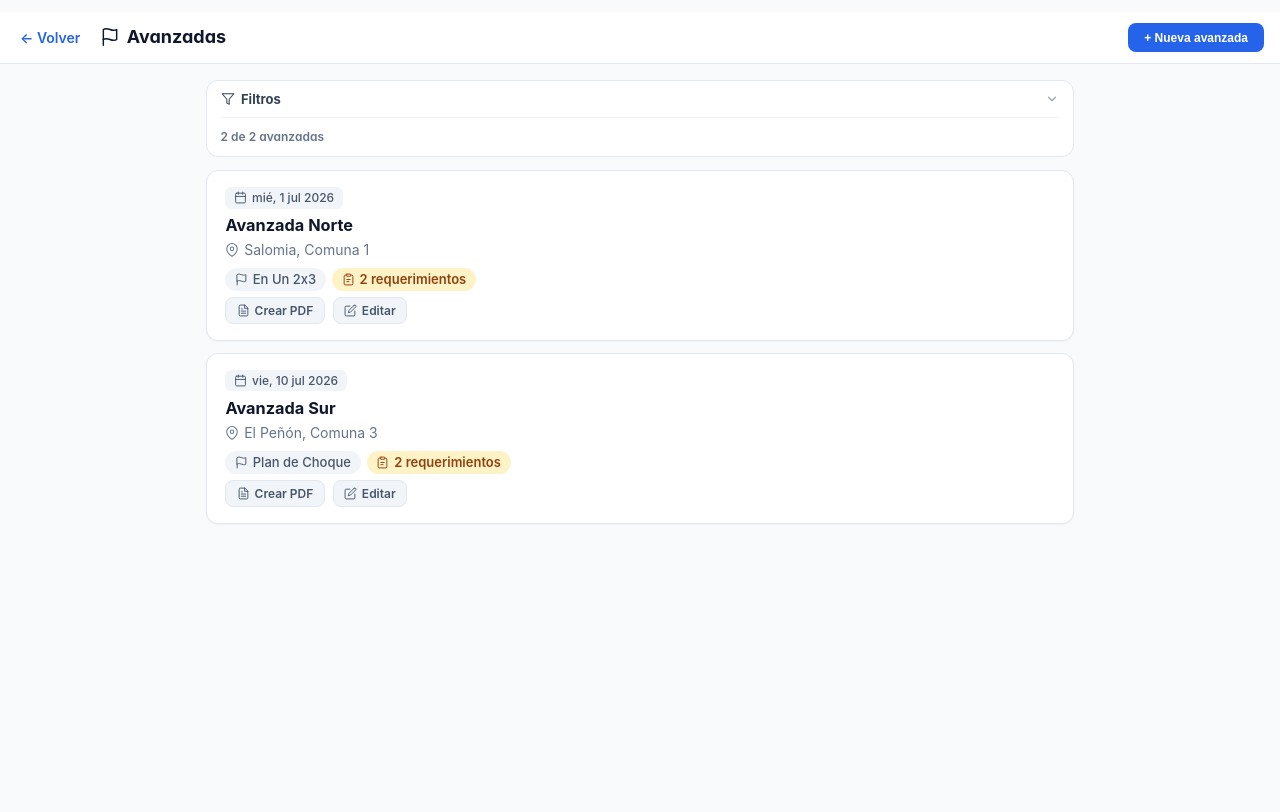
Test: ListaAvanzadas › filter bar › shows the no-results-from-filters empty state (distinct from the no-avanzadas-at-all state) when a filter matches nothing
Click the button "Filtros". click: (261,99)
box: left=221, top=91, right=1059, bottom=107
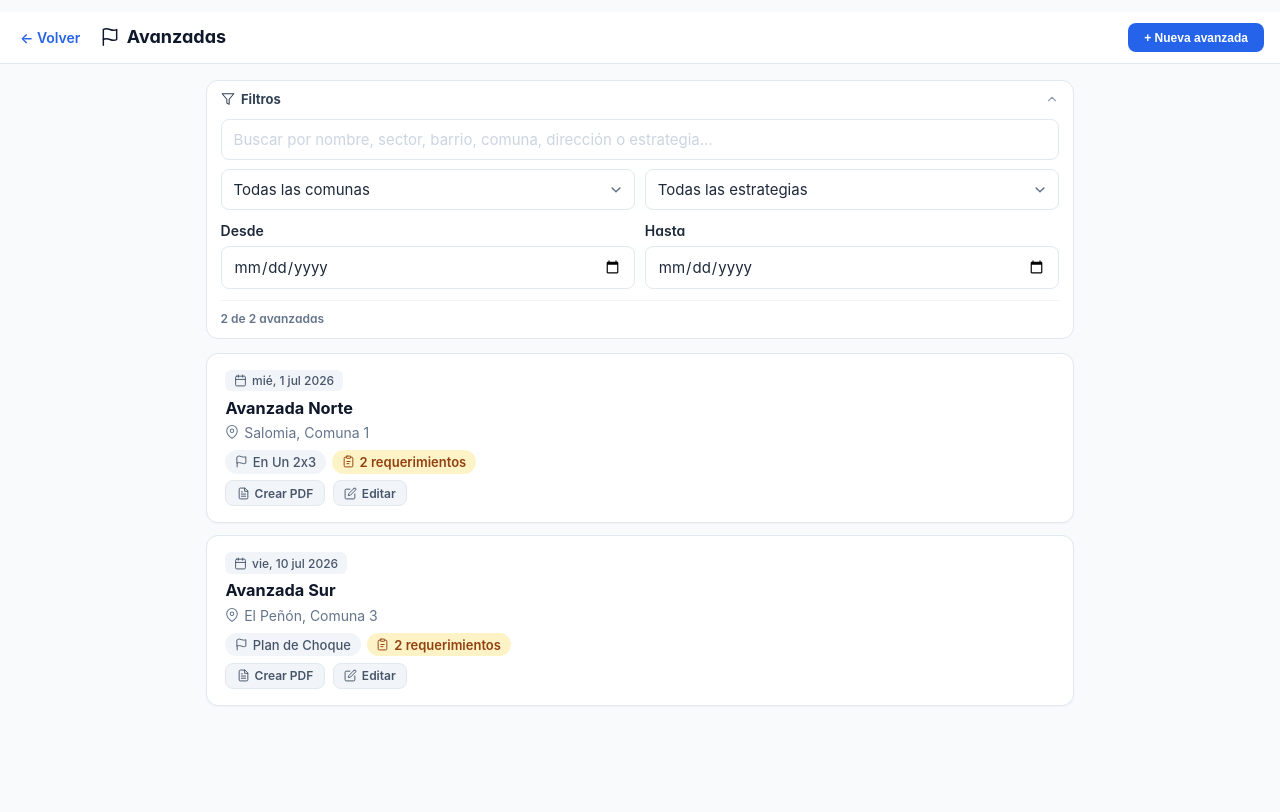
Replace the text in the field with placeholder "Buscar por nombre" with "nombre-que-no-existe". click: (640,139)
box: left=221, top=119, right=1059, bottom=160
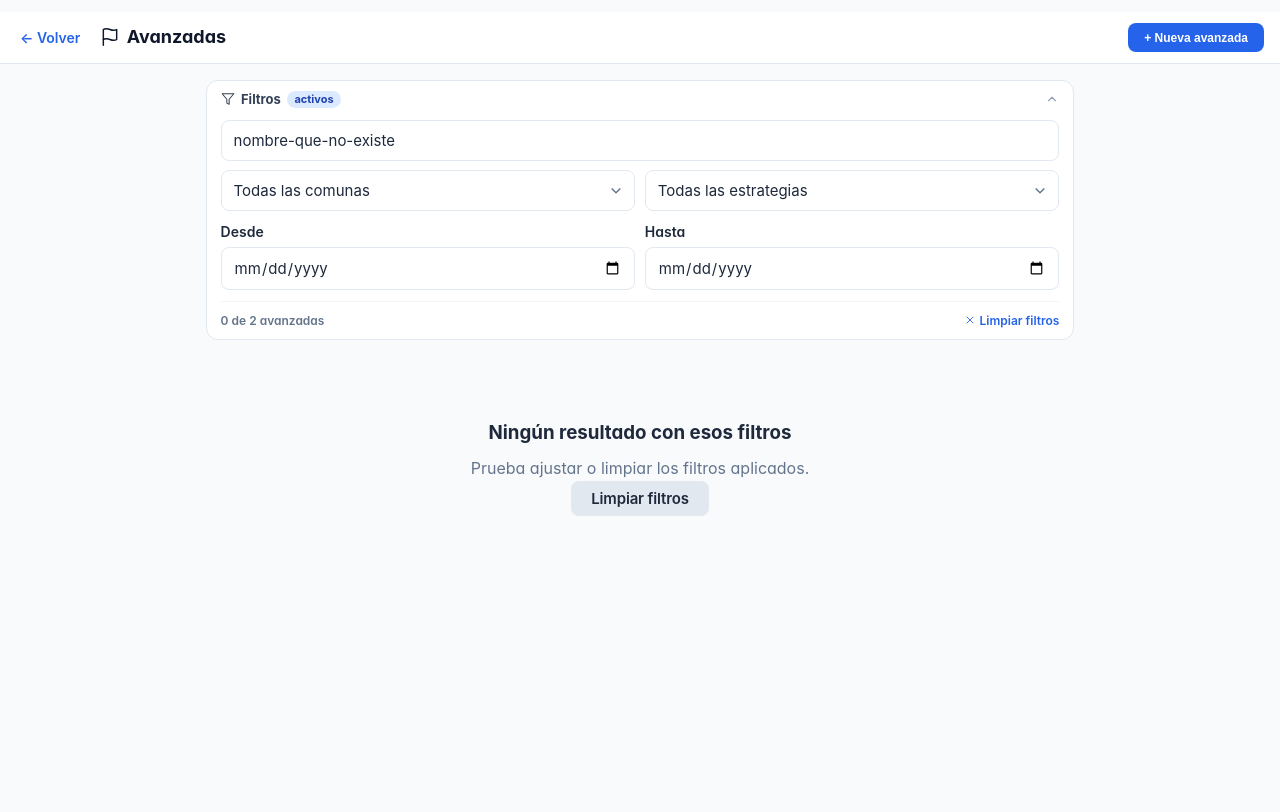
Check: the heading "Ningún resultado con esos filtros" is shown, box left=488, top=421, right=791, bottom=444
